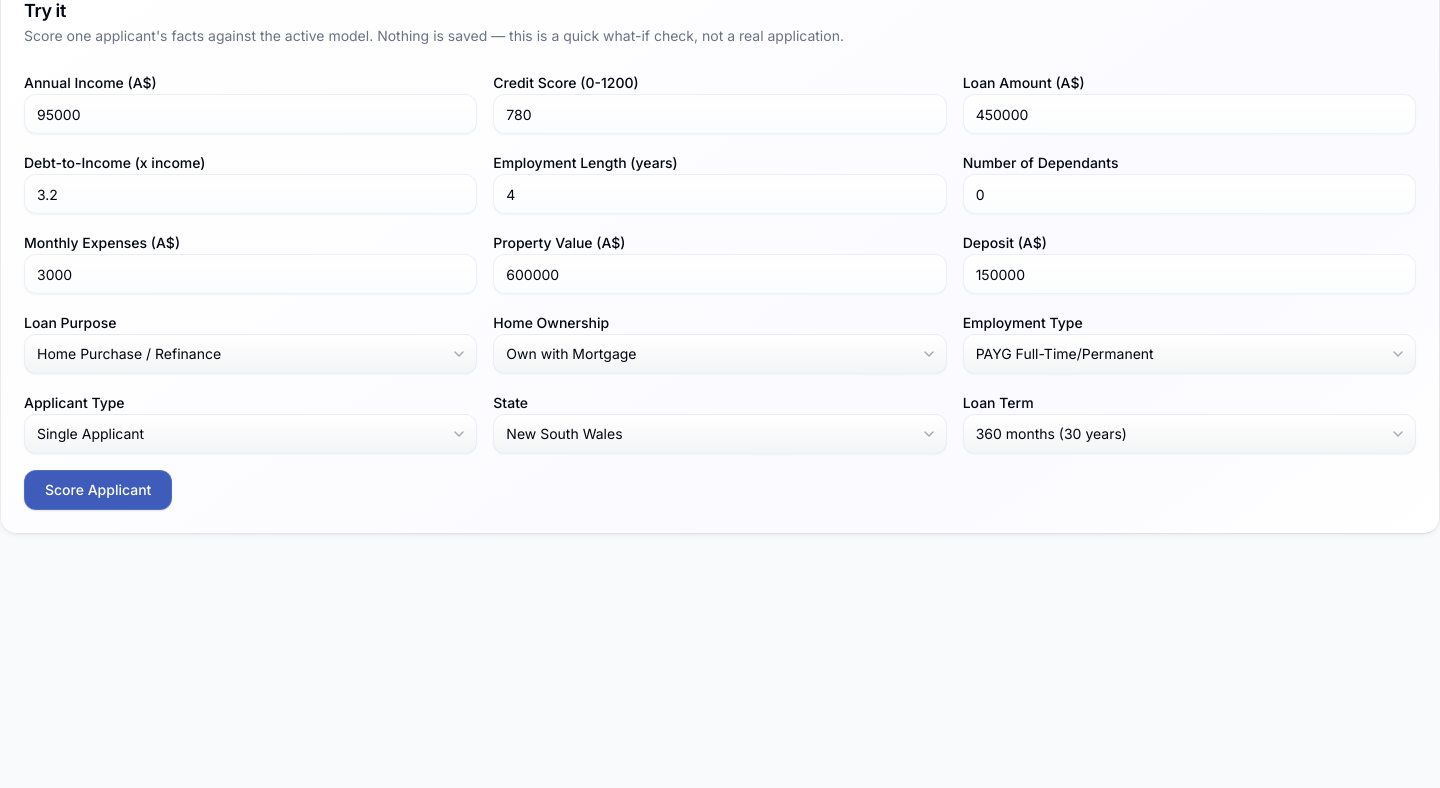
Test: TryItTab › submits the prefilled sample applicant and renders the probability, decision, note and defaulted count
This screenshot has width=1440, height=788.
Click the button "Score Applicant" at (98, 490), box x1=24 y1=470 x2=172 y2=510
(page scrolled)
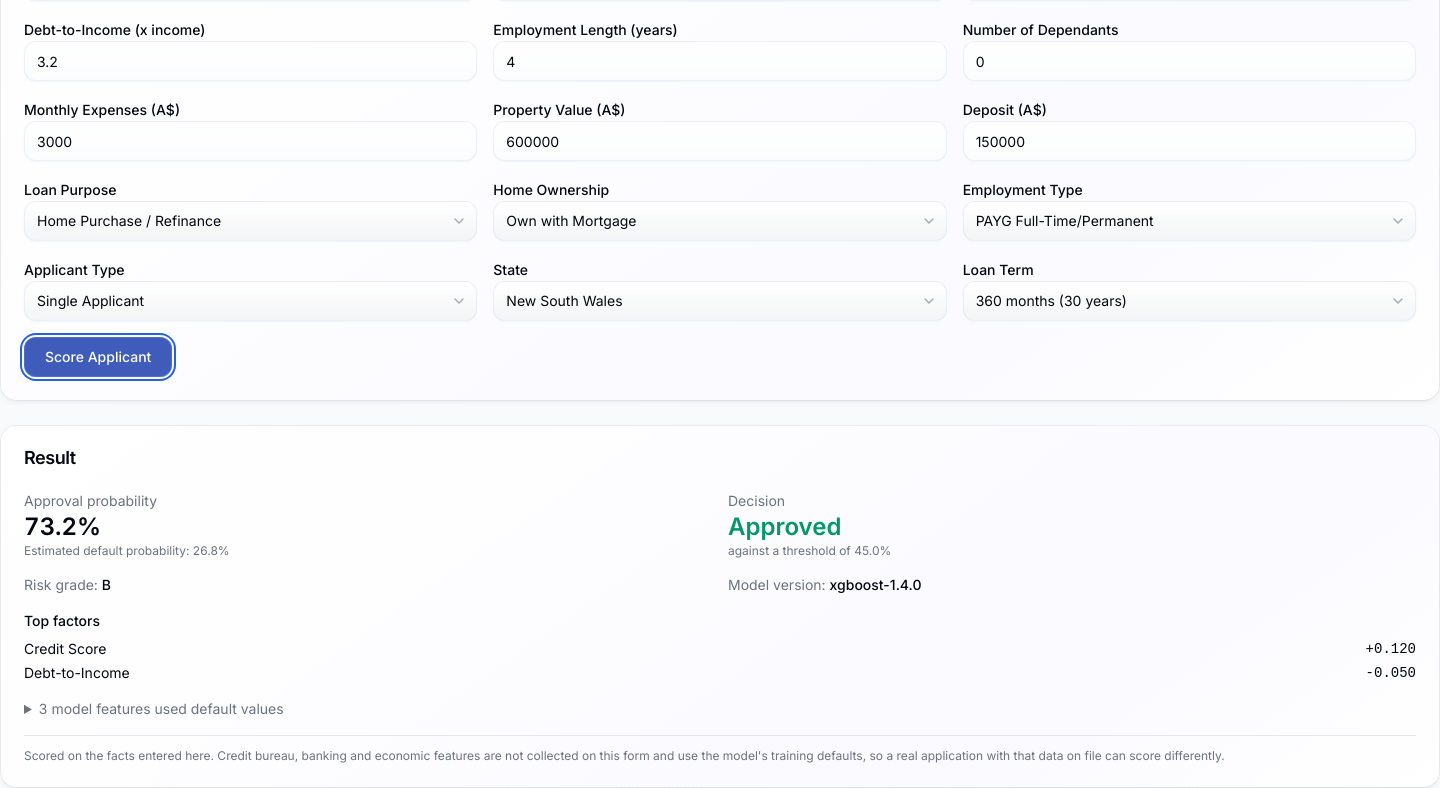
Now the text "73.2%" is shown, box x1=24 y1=512 x2=101 y2=541
Now the text "approved" is shown, box x1=728 y1=512 x2=841 y2=541
Now the text "Scored on the facts entered here. Credit bureau, banking and economic features are not collected on this form and use th" is shown, box x1=24 y1=748 x2=1225 y2=763
